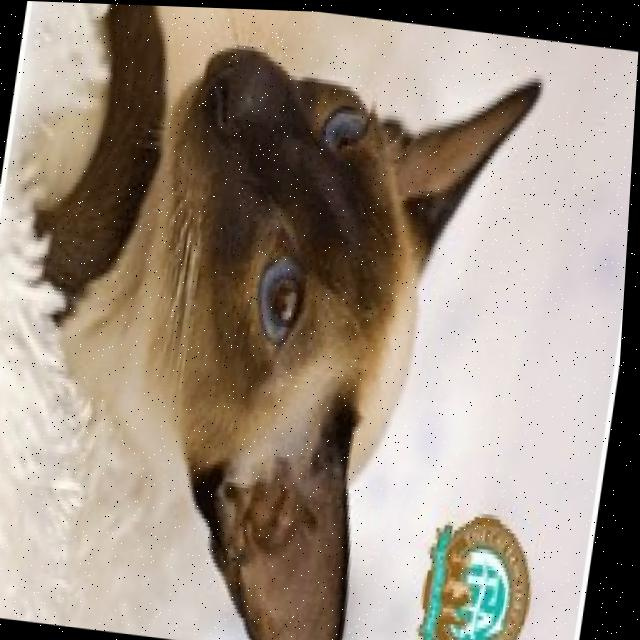Siamese: (0, 0, 556, 640)
